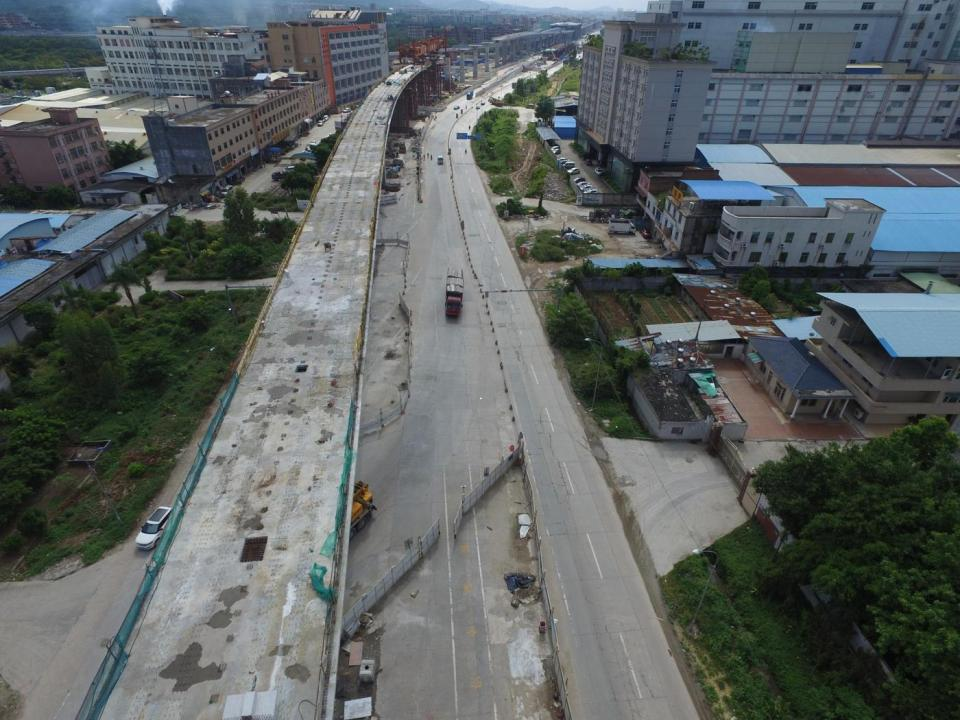car: (133, 505, 174, 549), (639, 229, 652, 239), (599, 160, 613, 168), (583, 189, 599, 196), (557, 157, 572, 164), (568, 167, 581, 175), (576, 181, 588, 187), (594, 168, 602, 176), (551, 148, 561, 154), (318, 120, 324, 126), (323, 115, 328, 122), (344, 108, 351, 113), (310, 140, 317, 145), (454, 105, 460, 110), (476, 105, 480, 110), (480, 101, 484, 105)
truck: (446, 267, 464, 317), (607, 219, 636, 234), (272, 171, 290, 182), (466, 89, 473, 100)
van: (221, 185, 232, 196), (283, 166, 297, 174), (572, 177, 585, 184), (580, 185, 593, 192), (562, 162, 575, 167), (438, 155, 444, 164), (551, 146, 559, 152), (584, 159, 591, 165)
